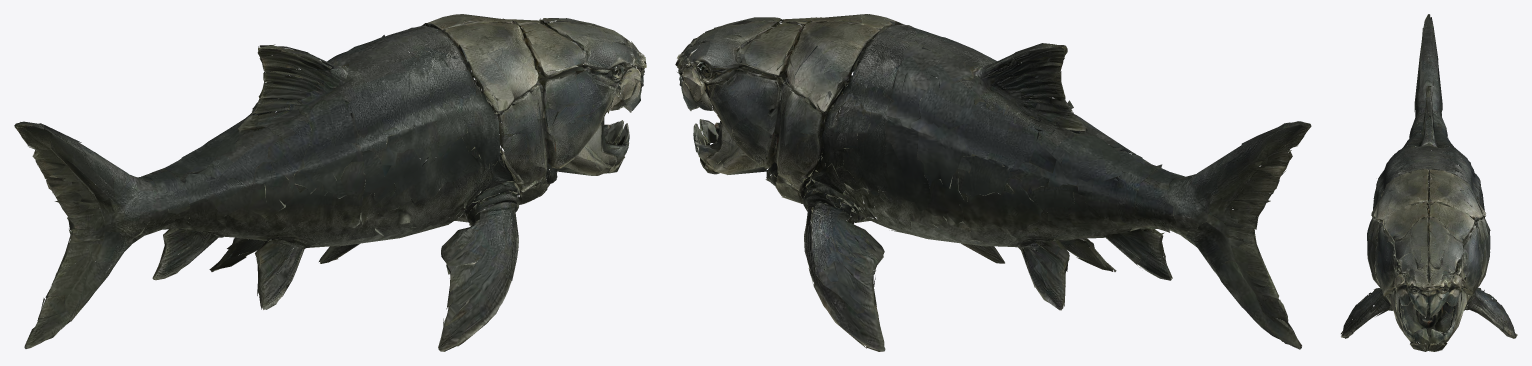
File: dunkleosteus.glb
3 renders of one model, left to right at view 1: azimuth 30°, elevation 25°; view 2: azimuth 150°, elevation 25°; view 3: azimuth 270°, elevation 25°, orthographic. The views are drawn at different scales.
Parts seen in each view (by area): view 1: Mesh_0; view 2: Mesh_0; view 3: Mesh_0.
Part boxes in pixels (box(x1,y1,x2,y2)): Mesh_0: box(14, 14, 646, 351); Mesh_0: box(675, 14, 1311, 351); Mesh_0: box(1341, 14, 1517, 351).
Bounding box in the file's own units: 1 × 0.4463 × 0.3469.
1 material, 1 textured.
